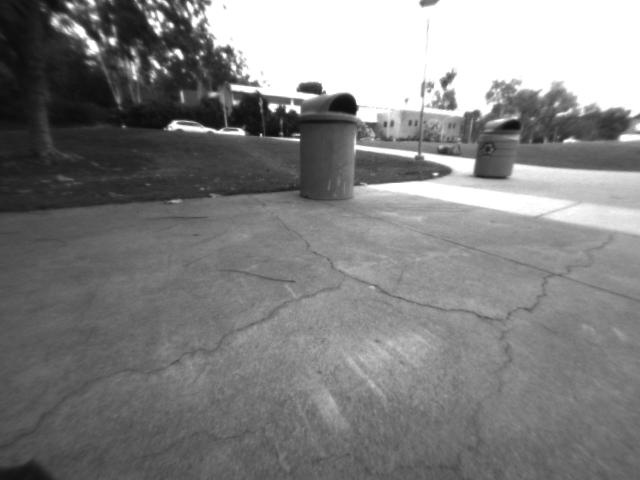trashcan: (299, 92, 362, 201)
